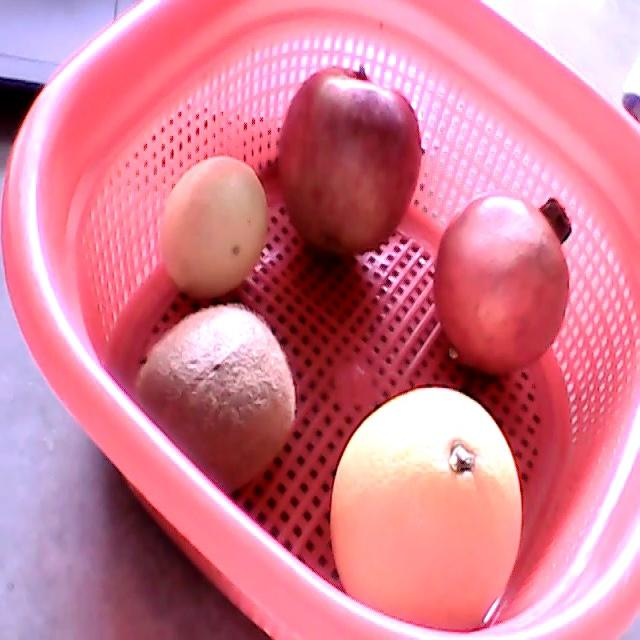apple: (278, 63, 423, 257)
kiwi: (136, 306, 295, 495)
lemon: (157, 156, 267, 300)
orange: (330, 385, 522, 633)
pomegranate: (433, 191, 572, 374)
